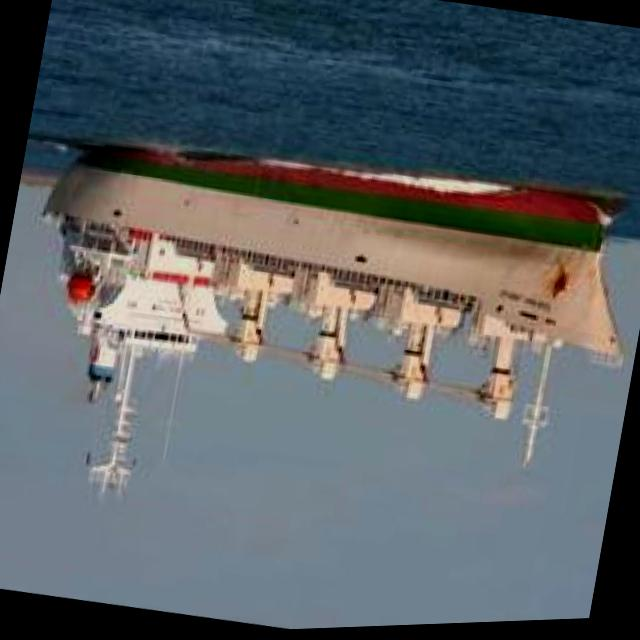ship2: (39, 143, 629, 501)
